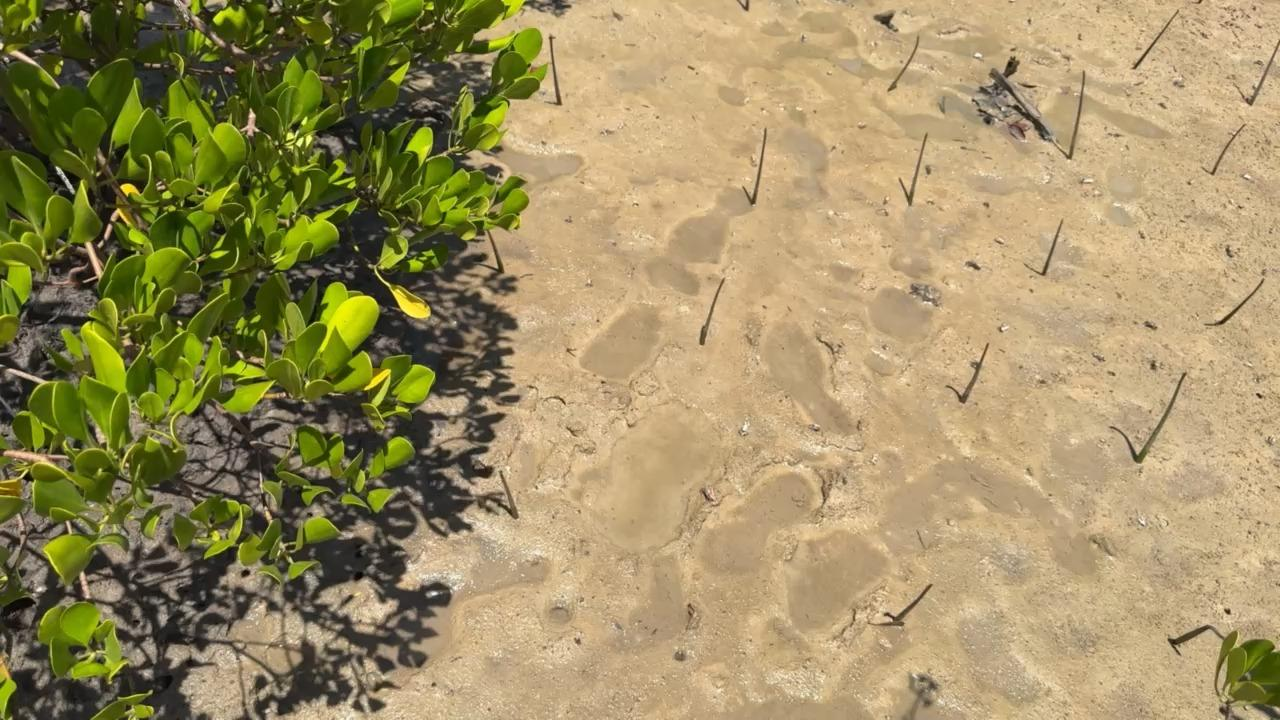Tree: (1137, 372, 1186, 463), (1134, 10, 1179, 70), (1250, 38, 1280, 107), (1220, 277, 1263, 323), (887, 35, 920, 90), (1211, 123, 1245, 176), (961, 343, 989, 403), (701, 276, 724, 345), (1069, 70, 1086, 161), (894, 584, 933, 622), (908, 132, 928, 206), (1042, 219, 1063, 276), (752, 128, 767, 205), (1169, 625, 1224, 646), (499, 470, 520, 518), (549, 34, 562, 105), (488, 230, 505, 275), (747, 0, 750, 10)
